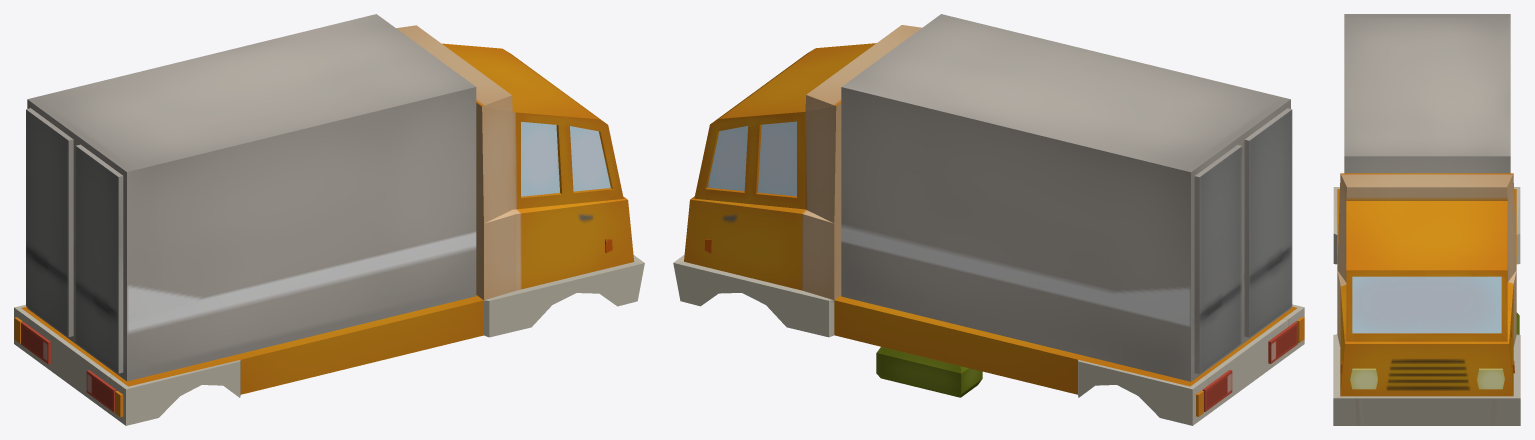
Rendered from co_Truck03.fbx.
3 views of the same model, side by side, from view 1: azimuth 30°, elevation 25°; view 2: azimuth 150°, elevation 25°; view 3: azimuth 270°, elevation 25° (orthographic). The views are drawn at different scales.
Parts seen in each view (by area): view 1: Truck03; view 2: Truck03; view 3: Truck03.
Boxes of the visible parts, x1,y1,x2,y2 form: Truck03: [14, 14, 644, 425]; Truck03: [673, 14, 1304, 425]; Truck03: [1333, 14, 1520, 425].
Bounding box in the file's own units: 804 × 410 × 300.
